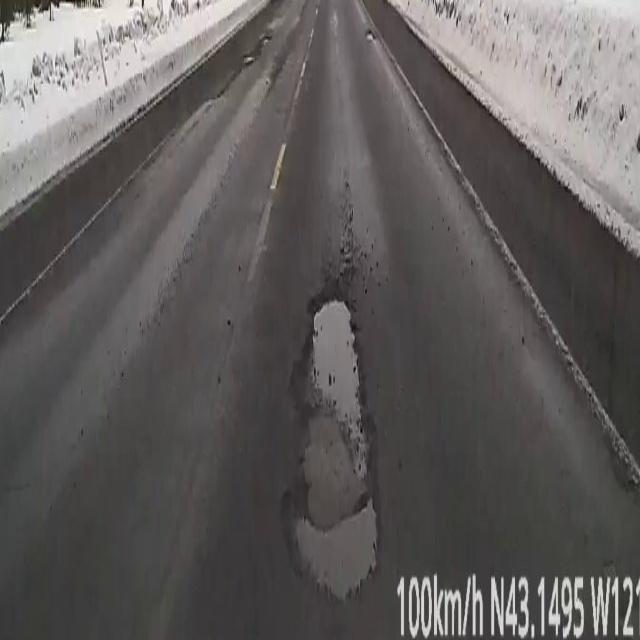pothole: (271, 286, 384, 609), (366, 33, 373, 40)
